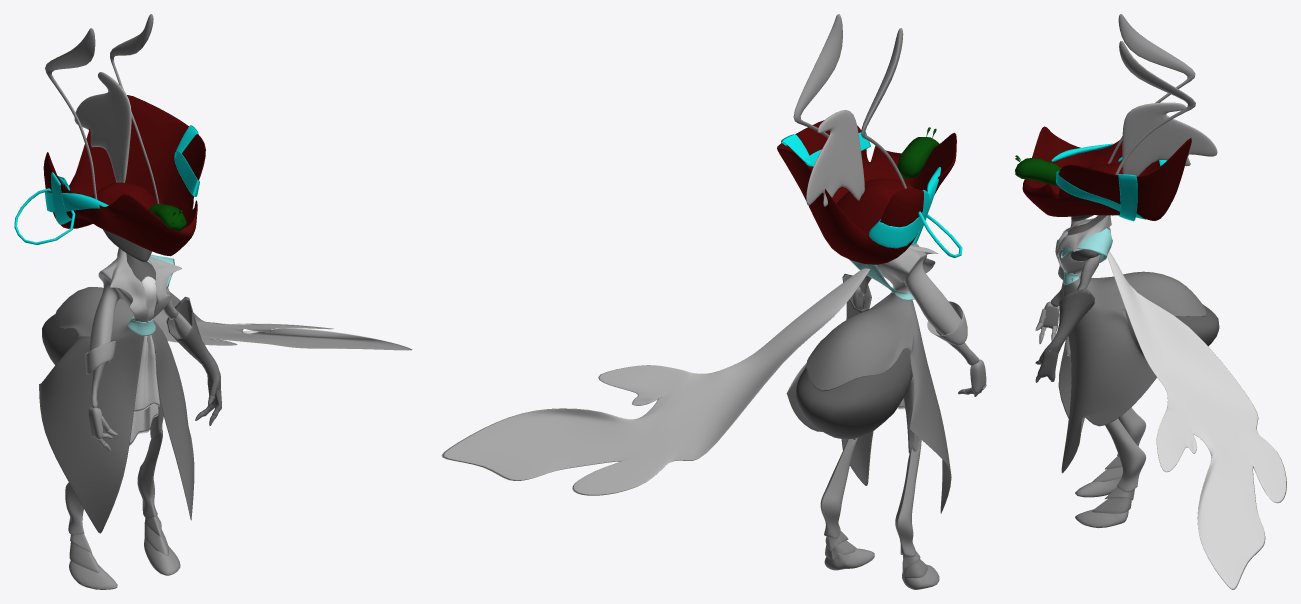
File: CaptainTexturingTesting.fbx
The picture shows the model from 3 angles, left to right: view 1: azimuth 30°, elevation 25°; view 2: azimuth 150°, elevation 25°; view 3: azimuth 270°, elevation 25°; orthographic projection. The views are drawn at different scales.
Parts seen in each view (by area): view 1: vest, HatMain, Wing, Feather, leftLeg, rightLeg, body, Glove, antena_r, drap2, antena_l, strap2 (+5 smaller); view 2: Wing, vest, HatMain, body, Feather, rightLeg, leftLeg, antena_l, strap2, antena_r, dennis_body; view 3: Wing, vest, HatMain, Feather, leftLeg, Glove, antena_r, body, rightLeg, antena_l, dennis_body, Sash (+4 smaller).
Part boxes in pixels (x1,y1,x2,y2): vest: [39, 248, 194, 533]; HatMain: [43, 95, 205, 256]; Wing: [153, 292, 412, 350]; Feather: [74, 72, 131, 182]; leftLeg: [137, 353, 180, 575]; rightLeg: [65, 482, 117, 589]; body: [42, 229, 155, 365]; Glove: [166, 296, 221, 425]; antena_r: [45, 28, 97, 199]; drap2: [133, 335, 159, 412]; antena_l: [110, 14, 158, 203]; strap2: [45, 176, 108, 212]; Wing: [441, 268, 870, 495]; vest: [786, 243, 967, 513]; HatMain: [777, 120, 956, 264]; body: [796, 288, 912, 439]; Feather: [806, 110, 864, 206]; rightLeg: [895, 377, 939, 589]; leftLeg: [820, 437, 874, 570]; antena_l: [793, 14, 842, 138]; strap2: [869, 167, 940, 248]; antena_r: [861, 28, 906, 188]; dennis_body: [897, 137, 939, 179]; Wing: [1107, 251, 1286, 589]; vest: [1055, 215, 1206, 473]; HatMain: [1022, 126, 1191, 220]; Feather: [1122, 102, 1217, 176]; leftLeg: [1075, 418, 1146, 528]; Glove: [1035, 289, 1094, 382]; antena_r: [1107, 14, 1195, 163]; body: [1067, 215, 1219, 354]; rightLeg: [1075, 407, 1146, 497]; antena_l: [1115, 41, 1195, 174]; dennis_body: [1015, 157, 1061, 185]; Sash: [1061, 228, 1112, 284].
Bounding box in the file's own units: 225 × 262 × 134.
